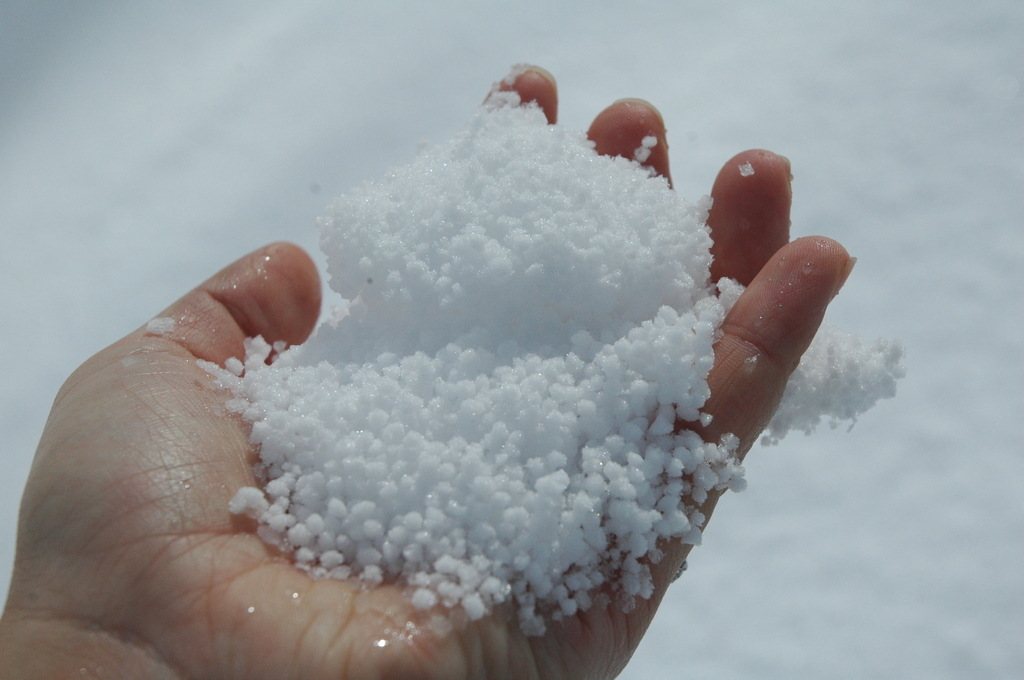Human_hand: (0, 62, 857, 680)
